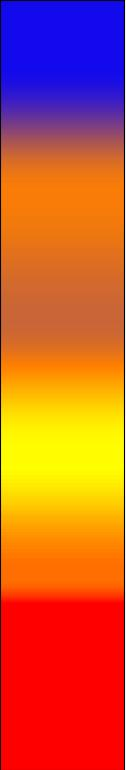Thermal Runaway: (4, 371, 120, 590), (4, 596, 119, 768), (5, 170, 119, 274)
critical: (5, 281, 120, 363), (4, 136, 123, 163)
safe: (5, 6, 120, 130)
